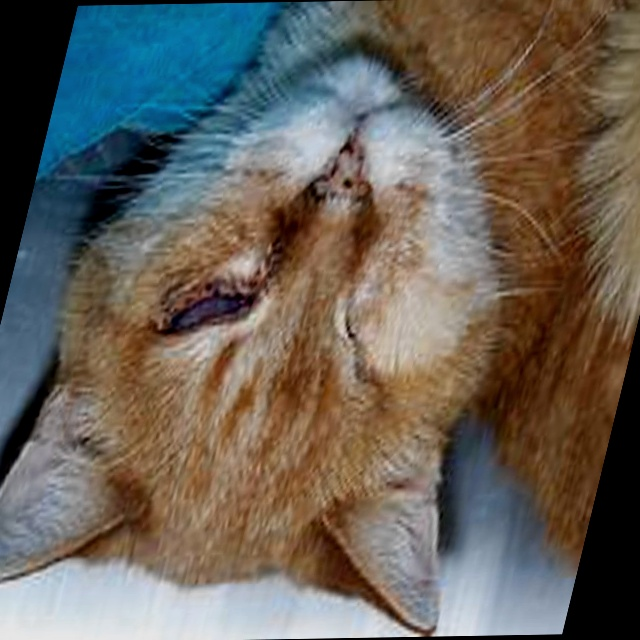eye_infection: (160, 279, 251, 326)
